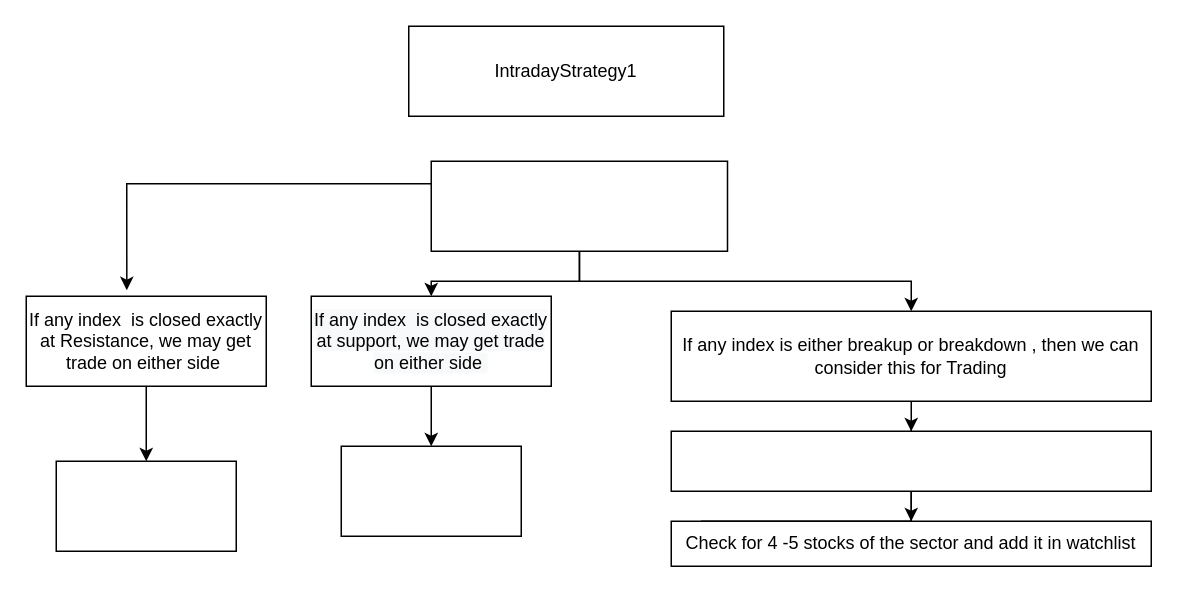
Some shapes in this 1178 by 593 pixel diagram are drawn without their labels. The centre of each missing label's shape, as x and y in pixels:
"Check for 50 or 200 EMA" belongs at pixel 910 460.
"Look at all sectors to identify breakout at resistance/support levels" belongs at pixel 579 205.
